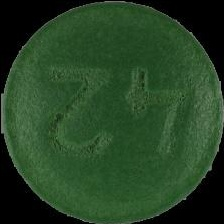0781-1766: (0, 0, 224, 224)
